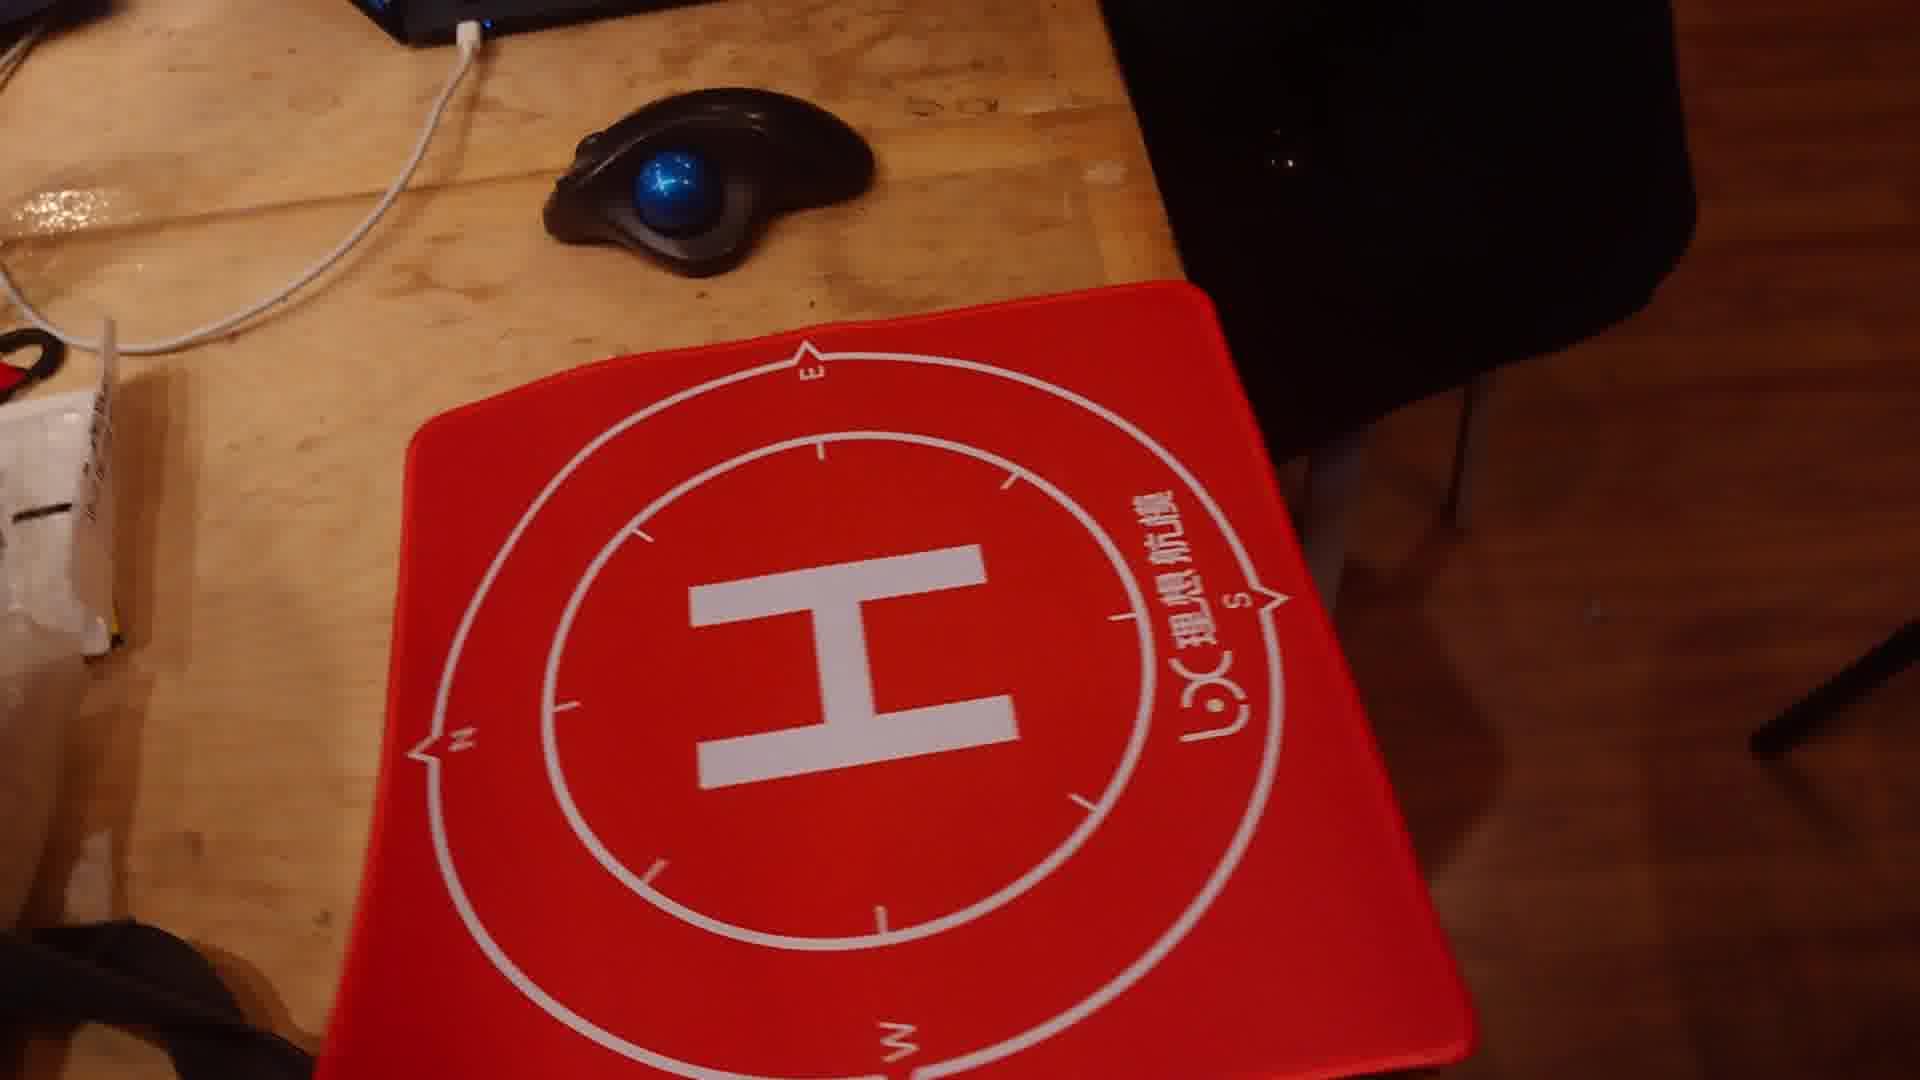H: (684, 545, 1026, 794)
